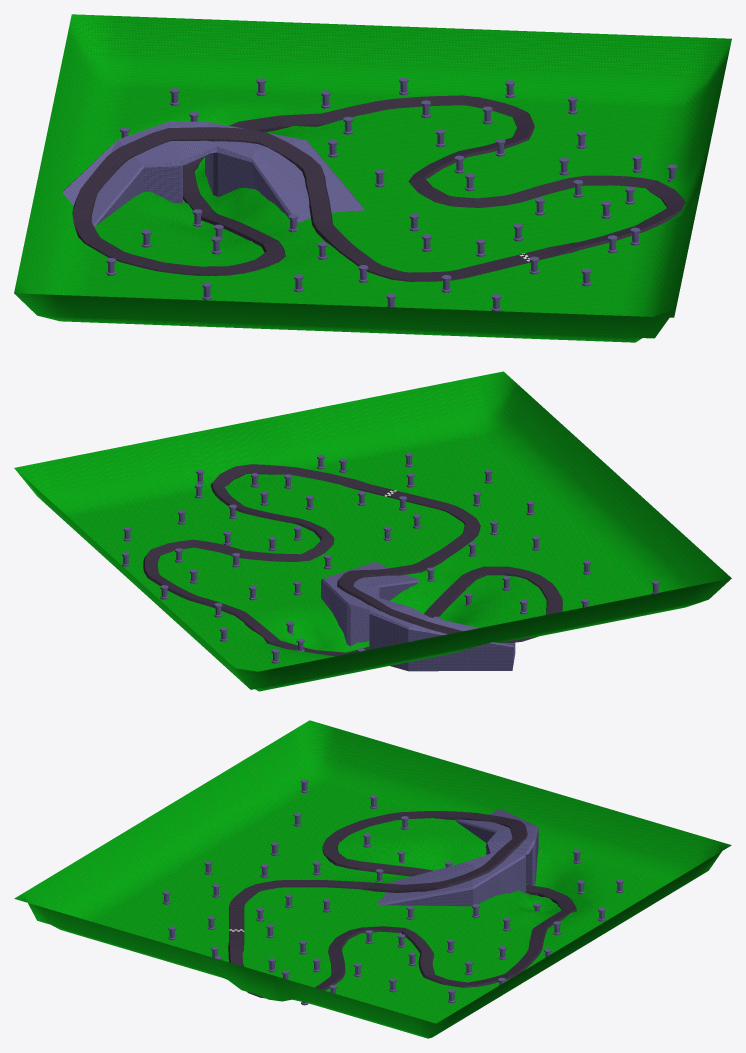
The model's file is yargtrack full.glb.
The picture shows the model from 3 angles, top to bottom: view 1: azimuth 30°, elevation 25°; view 2: azimuth 150°, elevation 25°; view 3: azimuth 270°, elevation 25°; orthographic projection. The views are drawn at different scales.
Parts seen in each view (by area): view 1: Plane; view 2: Plane; view 3: Plane.
Part boxes in pixels (bbox=[...]): Plane: bbox=[14, 14, 731, 342]; Plane: bbox=[14, 371, 731, 691]; Plane: bbox=[14, 720, 731, 1038].
Bounding box in the file's own units: 137 × 11.88 × 137.
5 materials, 5 textured.
